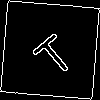T: (25, 25, 78, 80)
